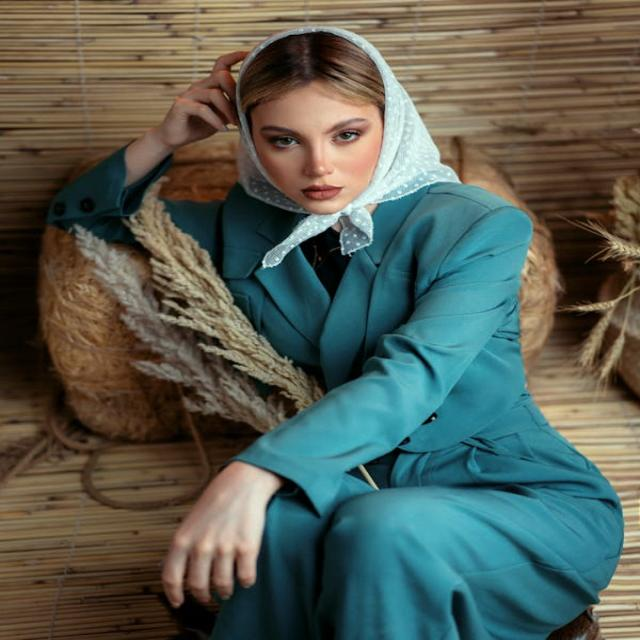Real human 2: (41, 17, 616, 640)
